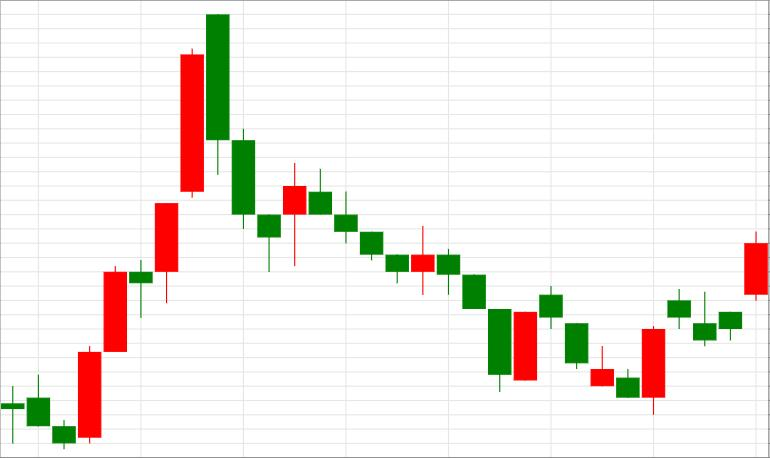bullish_engulfing_rise: (539, 286, 665, 416)
three_black_crows_fall: (78, 13, 281, 444)
